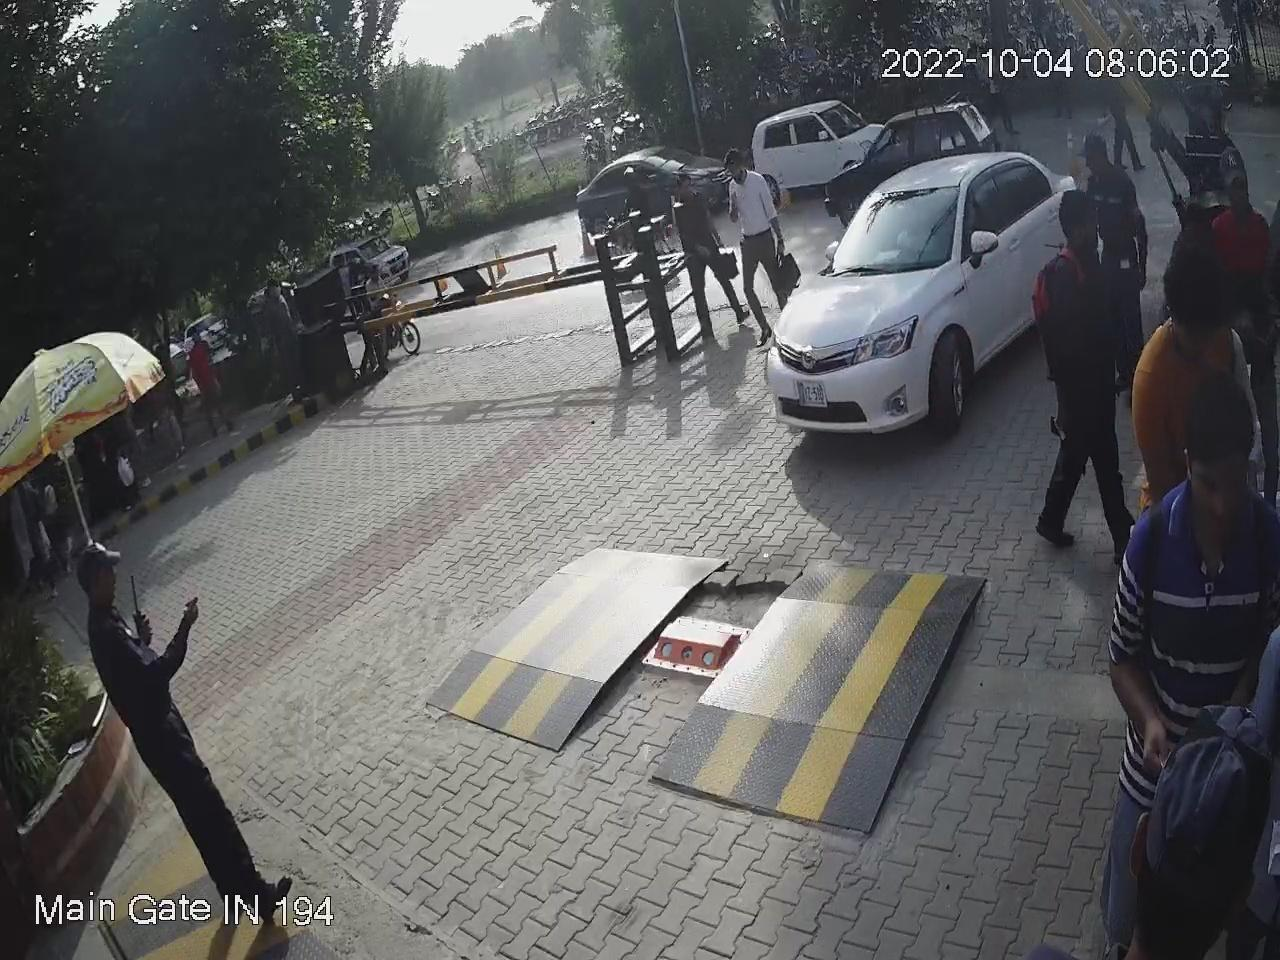windshield: (833, 183, 961, 270)
